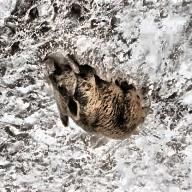boar: (43, 58, 153, 139)
